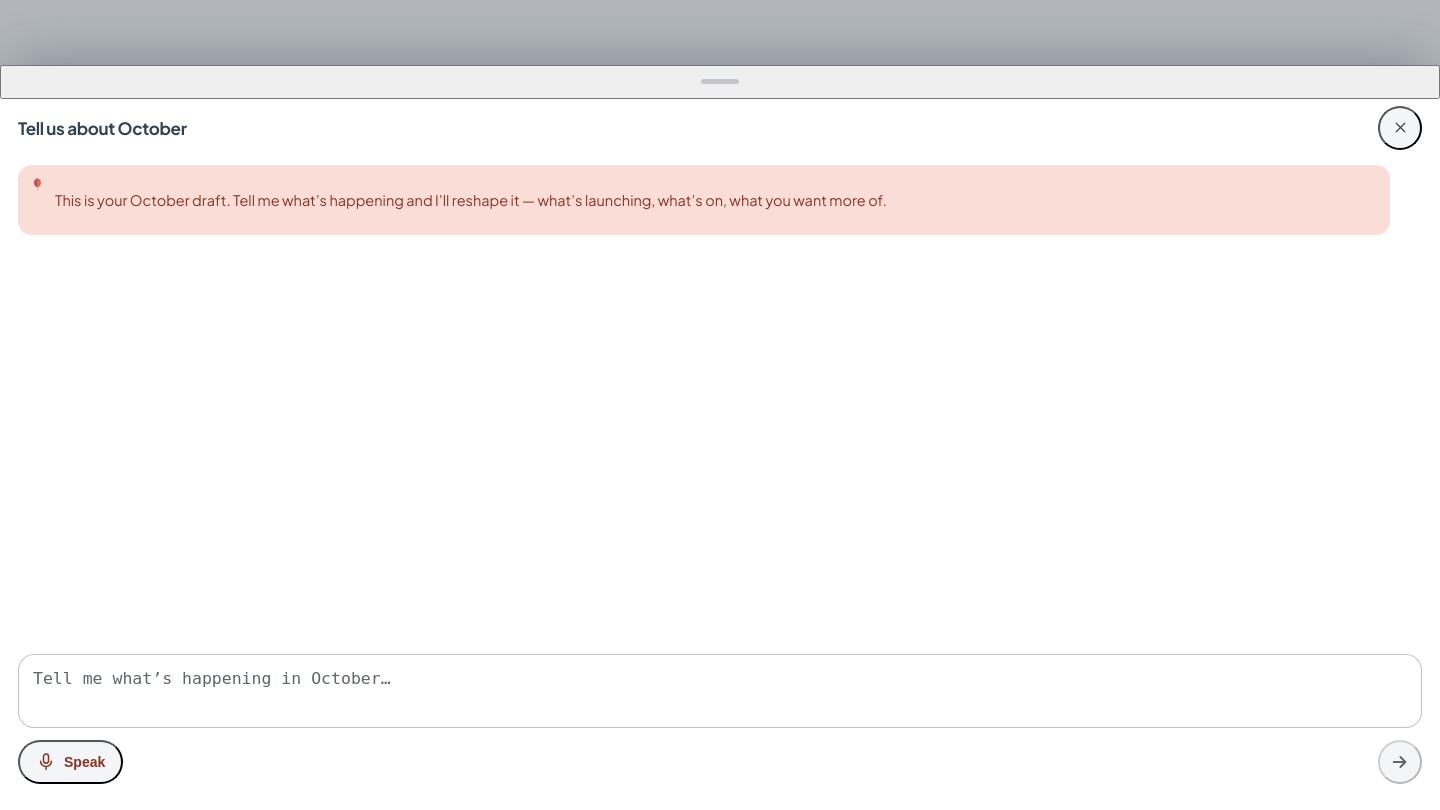
the microphone is a TAP control on a keyboard-first composer › there is NO meter — the control’s pressed state is the listening state
Click the button with test id "voice-mic".
click(71, 762)  # box top-left (18, 740), bottom-right (123, 784)
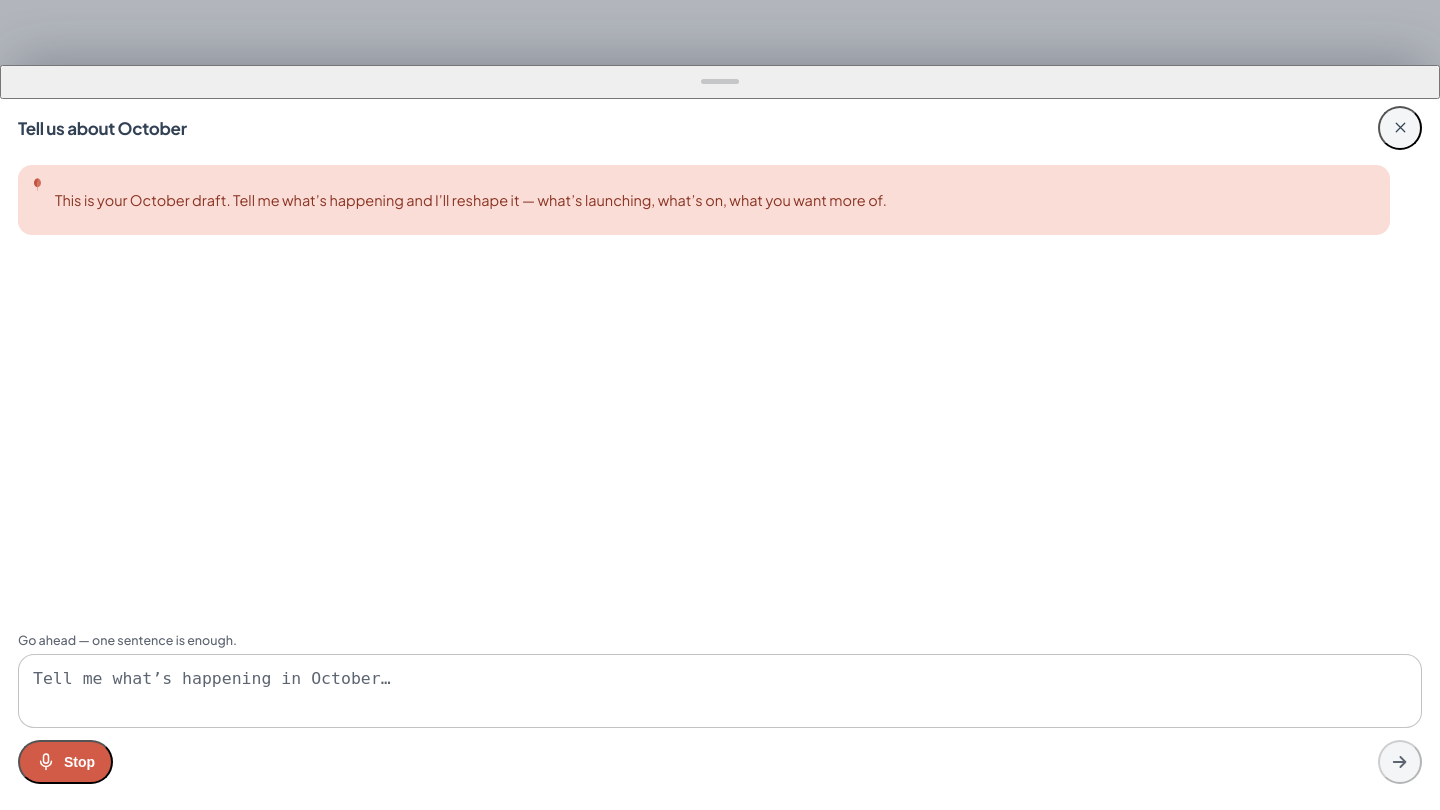
expect the button with test id "voice-mic" reads "Stop": met
Click the button with test id "voice-mic".
click(66, 762)  # box top-left (18, 740), bottom-right (113, 784)
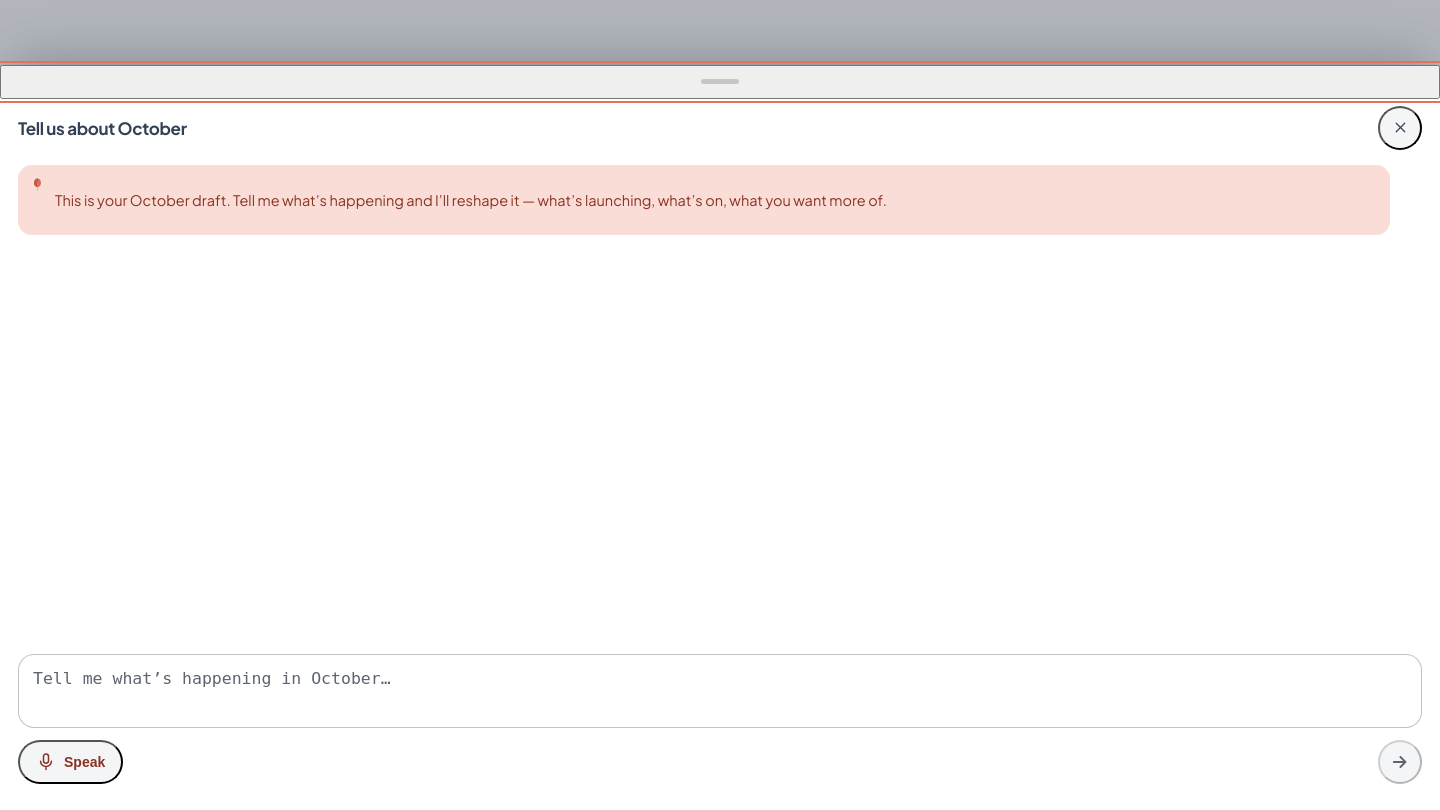
expect the button with test id "voice-mic" reads "Speak": met, box top-left (18, 740), bottom-right (123, 784)
